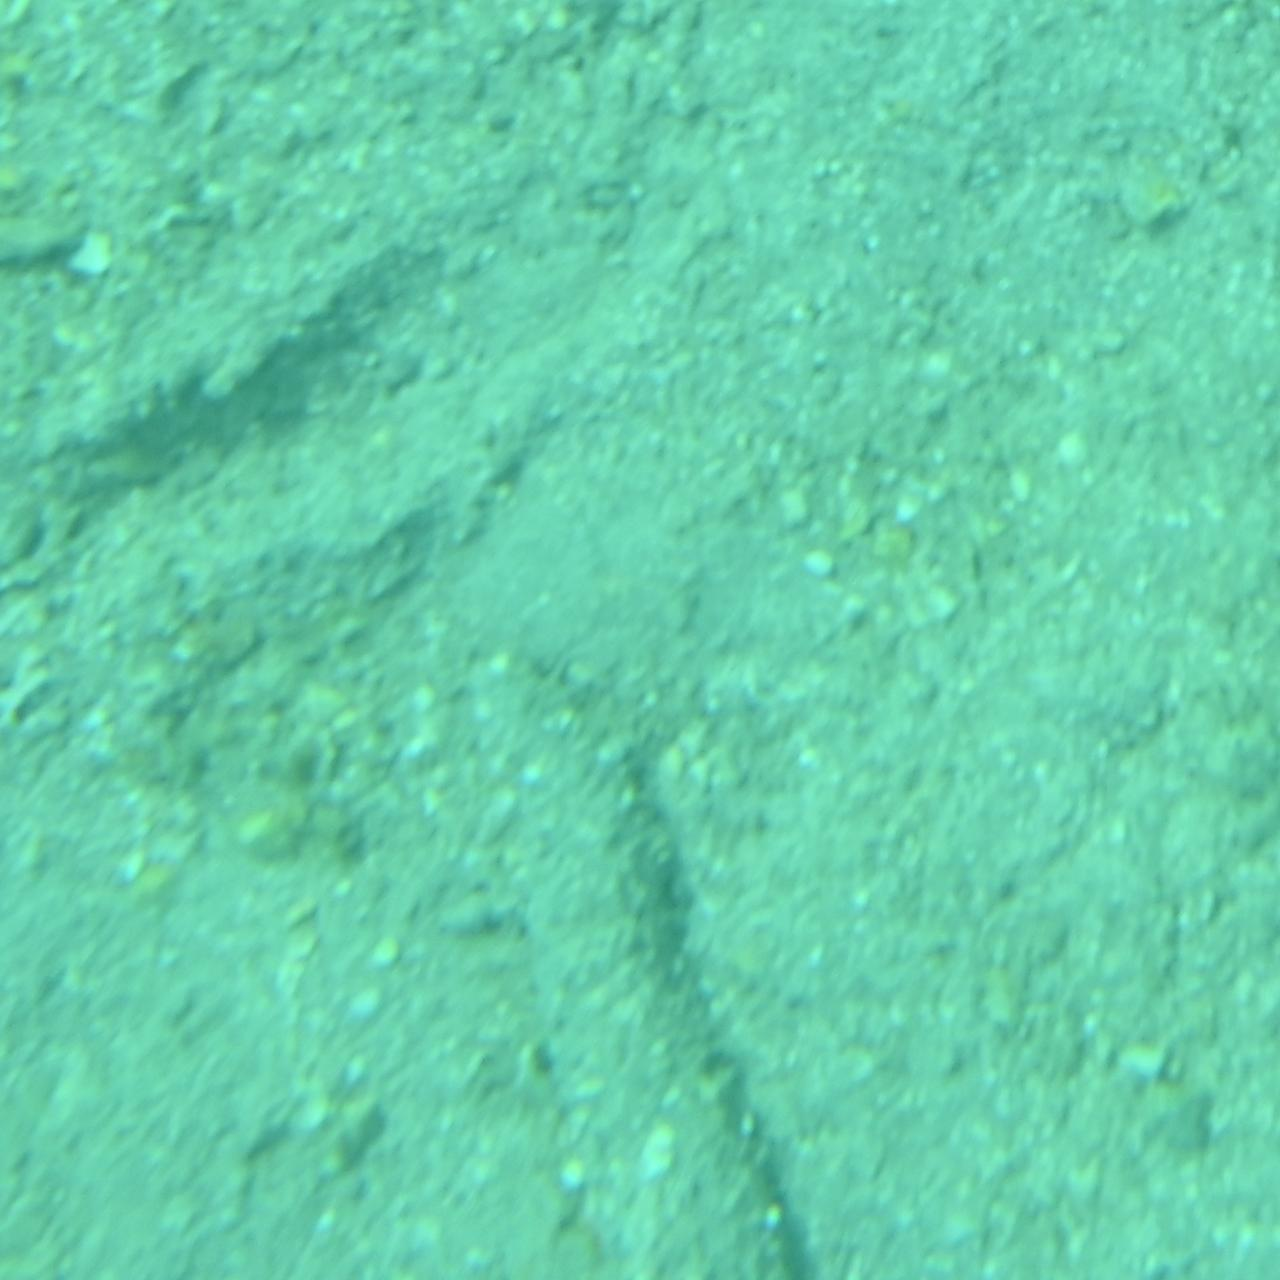Holothuria tubulosa: (458, 645, 822, 1280)
